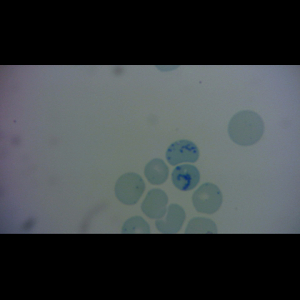aggregate reticulocyte: (165, 139, 201, 167), (170, 163, 202, 191)
erythrocyte: (227, 110, 266, 146), (154, 203, 186, 234), (139, 189, 169, 220), (144, 158, 170, 187)
punctate reticulocyte: (113, 171, 146, 206), (192, 181, 224, 215)
